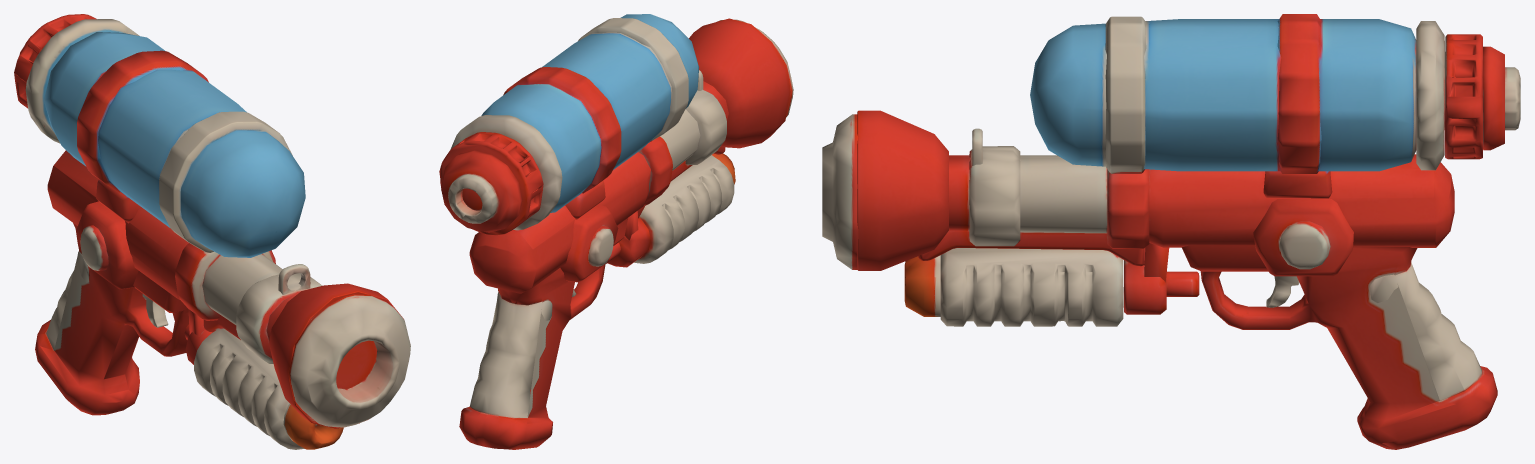
Rendered from BashieBlaster.fbx.
The picture shows the model from 3 angles, left to right: view 1: azimuth 30°, elevation 25°; view 2: azimuth 150°, elevation 25°; view 3: azimuth 270°, elevation 25°; orthographic projection. The views are drawn at different scales.
Parts seen in each view (by area): view 1: BashieBlaster; view 2: BashieBlaster; view 3: BashieBlaster.
Boxes of the visible parts, x1,y1,x2,y2 form: BashieBlaster: (14,14,410,449); BashieBlaster: (439,14,793,449); BashieBlaster: (822,14,1520,449).
Size of the model in its own units: 10.06 by 29.24 by 44.
